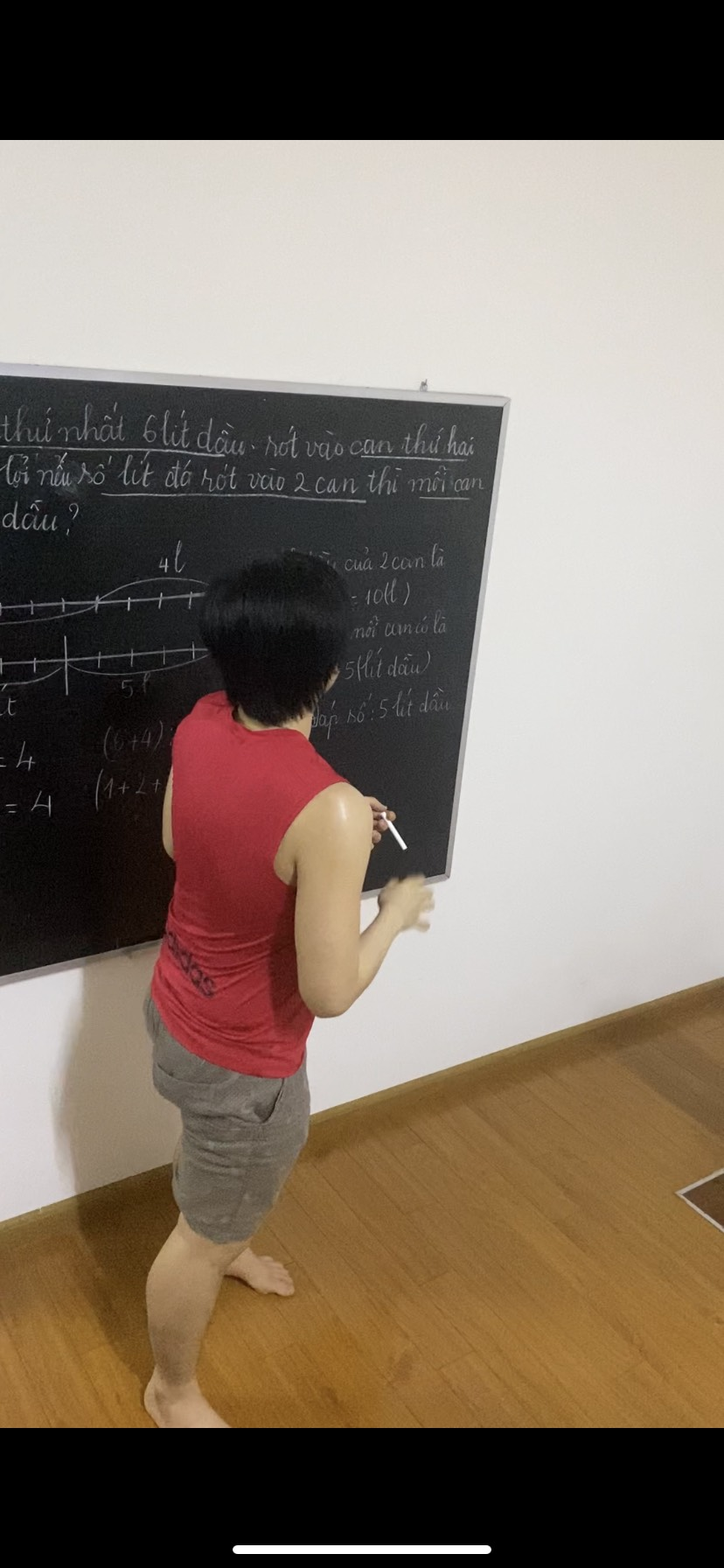cigarette: (382, 819, 412, 855)
person: (136, 539, 433, 1416)
